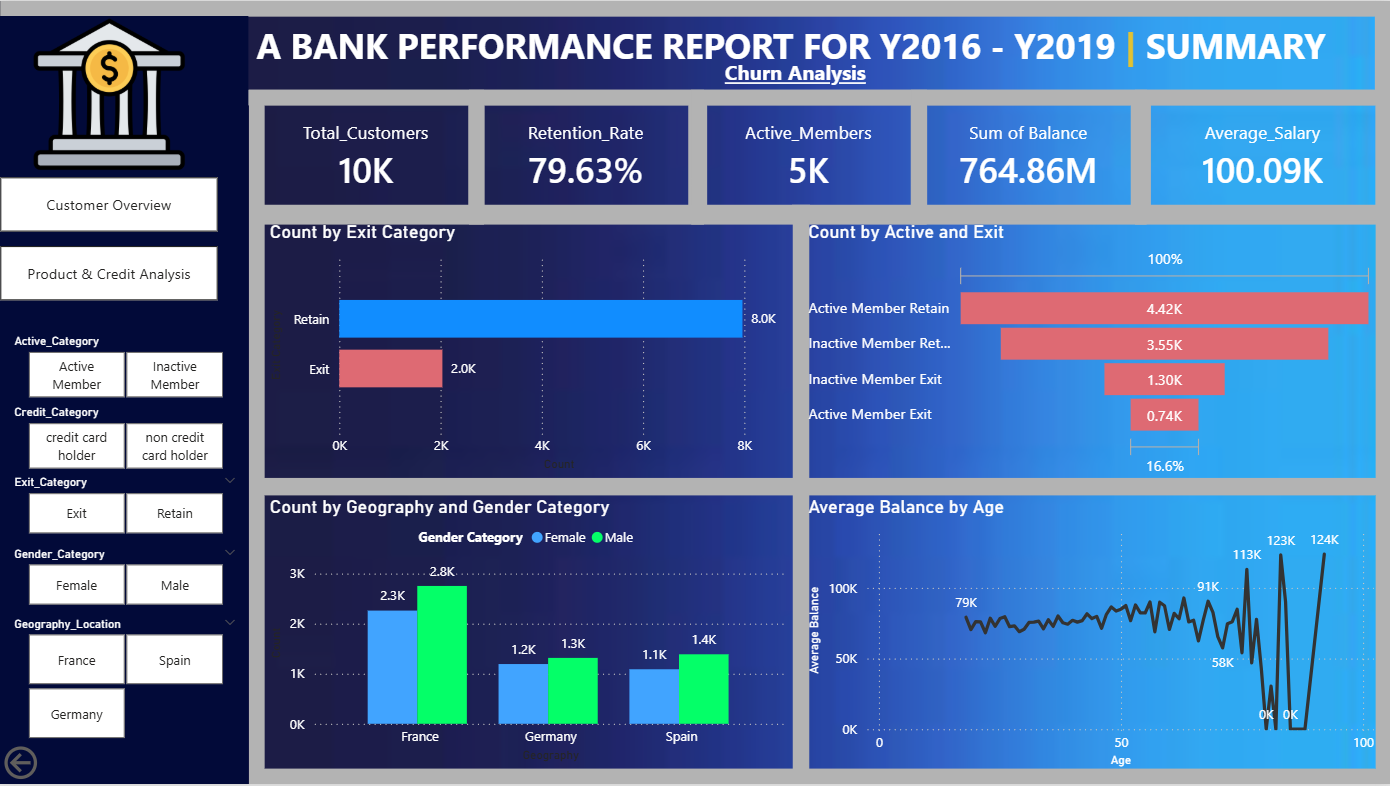

The dashboard page shown, as its layout file describes it:
{"tool":"powerbi","page":{"name":"Churn Analysis","canvas":[1280,720],"ordinal":1},"visuals":[{"type":"textbox","box":[1.2,0,1278.8,96.2],"z":0},{"type":"shape","box":[1.2,13.8,228.8,706.2],"z":1000},{"type":"slicer","fields":{"Values":["Active_Customer.Active_Category"]},"box":[1.2,301.2,228.8,65],"z":2000},{"type":"slicer","fields":{"Values":["Credit_Card.Category"]},"box":[1.2,366.2,228.8,65],"z":3000},{"type":"slicer","fields":{"Values":["Exit_Customer.Exit_Category"]},"box":[1.2,431.2,228.8,65],"z":4000},{"type":"slicer","fields":{"Values":["Gender.Gender_Category"]},"box":[1.2,496.2,228.8,65],"z":5000},{"type":"slicer","fields":{"Values":["Geography.Geography_Location"]},"box":[1.2,561.2,228.8,123.8],"z":6000},{"type":"image","box":[22.5,13.8,156.2,143.8],"z":7000},{"type":"cardVisual","fields":{"Data":["Bank_Churn.Total_Customers"]},"box":[230,81.2,216.2,123.8],"z":8000},{"type":"cardVisual","fields":{"Data":["Bank_Churn.Retention_Rate"]},"box":[432.5,81.2,216.2,123.8],"z":9000},{"type":"cardVisual","fields":{"Data":["Bank_Churn.Active_Members"]},"box":[636.2,81.2,216.2,123.8],"z":10000},{"type":"cardVisual","fields":{"Data":["Sum(Bank_Churn.Balance)"]},"box":[838.8,81.2,216.2,123.8],"z":11000},{"type":"cardVisual","fields":{"Data":["Bank_Churn.Average_Salary"]},"box":[1045,81.2,235,123.8],"z":12000},{"type":"pageNavigator","box":[1.2,162.5,200,50],"z":13000},{"type":"pageNavigator","box":[1.2,225,200,50],"z":14000},{"type":"clusteredBarChart","fields":{"Category":["Exit_Customer.Exit_Category"],"Y":["CountNonNull(Bank_Churn.Exit_ID)"]},"box":[230,187.8,515.6,265.6],"z":15000},{"type":"clusteredColumnChart","fields":{"Category":["Geography.Geography_Location"],"Series":["Gender.Gender_Category"],"Y":["CountNonNull(Bank_Churn.Gender_ID)"]},"box":[230,440,515,280],"z":16000},{"type":"funnel","fields":{"Category":["Active_Customer.Active_Category","Exit_Customer.Exit_Category"],"Y":["CountNonNull(Bank_Churn.Customer_Id)"]},"box":[730,187.8,550,265.6],"z":17000},{"type":"lineChart","fields":{"Y":["Bank_Churn.Avg_Balance"],"Category":["Bank_Churn.Age"]},"box":[730,440,550,280],"z":18000},{"type":"actionButton","box":[0,680,100,40],"z":19000},{"type":"textbox","box":[533.3,47.8,397.8,41.1],"z":20000}]}

Visuals, with their boxes in screenshot pixels (x1, y1, x2, y2), scaled from the page's 1280x720 canvas onto the 1390x786 screenshot:
textbox: <region>1, 0, 1389, 105</region>
shape: <region>1, 15, 250, 785</region>
slicer - Active_Customer.Active_Category: <region>1, 329, 250, 400</region>
slicer - Credit_Card.Category: <region>1, 400, 250, 471</region>
slicer - Exit_Customer.Exit_Category: <region>1, 471, 250, 542</region>
slicer - Gender.Gender_Category: <region>1, 542, 250, 613</region>
slicer - Geography.Geography_Location: <region>1, 613, 250, 748</region>
image: <region>24, 15, 194, 172</region>
cardVisual - Bank_Churn.Total_Customers: <region>250, 89, 485, 224</region>
cardVisual - Bank_Churn.Retention_Rate: <region>470, 89, 704, 224</region>
cardVisual - Bank_Churn.Active_Members: <region>691, 89, 926, 224</region>
cardVisual - Sum(Bank_Churn.Balance): <region>911, 89, 1146, 224</region>
cardVisual - Bank_Churn.Average_Salary: <region>1135, 89, 1389, 224</region>
pageNavigator: <region>1, 177, 218, 232</region>
pageNavigator: <region>1, 246, 218, 300</region>
clusteredBarChart - Exit_Customer.Exit_Category x CountNonNull(Bank_Churn.Exit_ID): <region>250, 205, 810, 495</region>
clusteredColumnChart - Geography.Geography_Location x Gender.Gender_Category: <region>250, 480, 809, 785</region>
funnel - Active_Customer.Active_Category x Exit_Customer.Exit_Category: <region>793, 205, 1389, 495</region>
lineChart - Bank_Churn.Avg_Balance x Bank_Churn.Age: <region>793, 480, 1389, 785</region>
actionButton: <region>0, 742, 109, 785</region>
textbox: <region>579, 52, 1011, 97</region>
